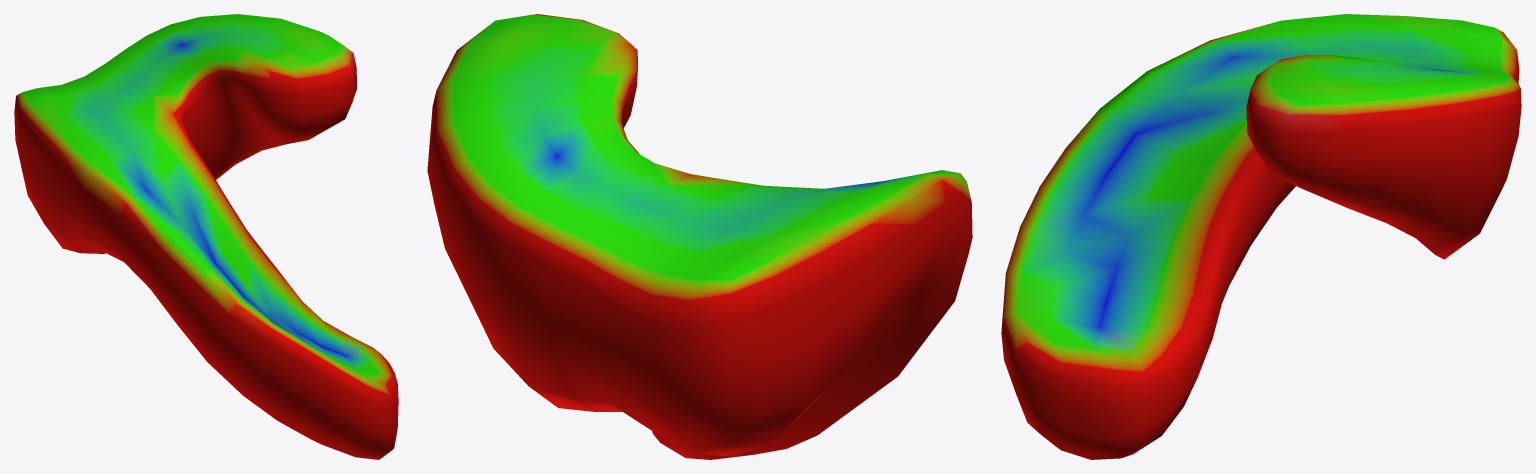
File: Bonus Spiral.fbx
The picture shows the model from 3 angles, left to right: view 1: azimuth 30°, elevation 25°; view 2: azimuth 150°, elevation 25°; view 3: azimuth 270°, elevation 25°; orthographic projection. The views are drawn at different scales.
Visible parts, largest first — view 1: Bonus Spiral; view 2: Bonus Spiral; view 3: Bonus Spiral.
Part boxes in pixels (<box>): Bonus Spiral: <box>14,14,398,459</box>; Bonus Spiral: <box>427,14,972,459</box>; Bonus Spiral: <box>1001,14,1521,459</box>.
Size of the model in its own units: 1178 by 1356 by 1633.
